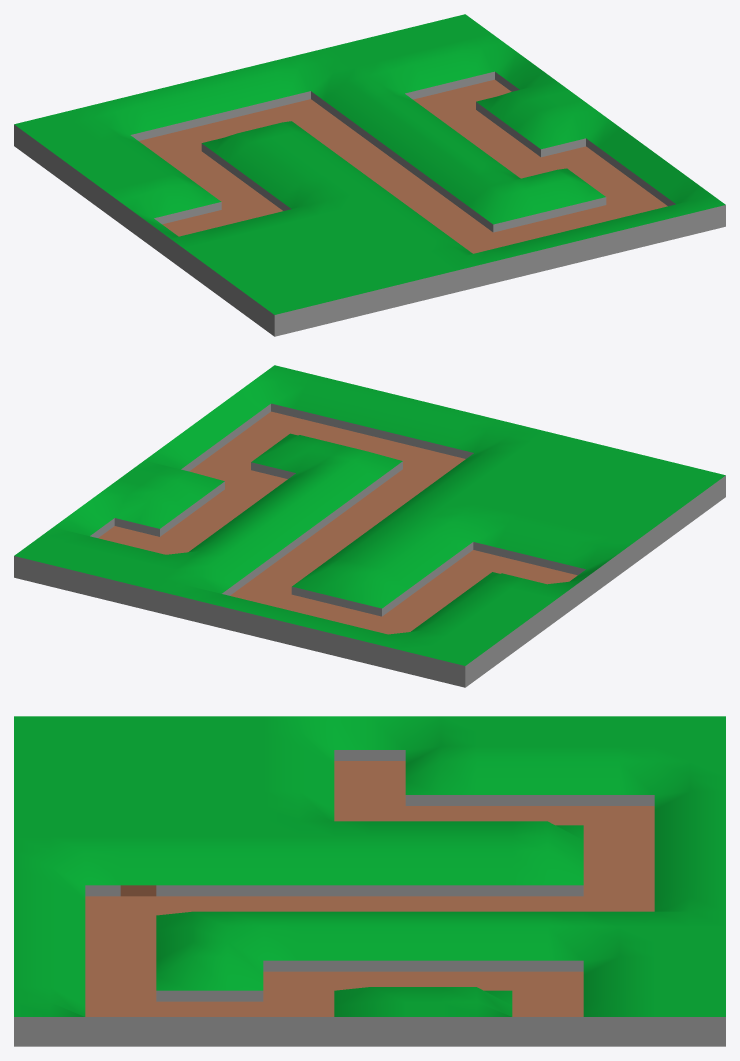
Rendered from pathground.fbx.
The picture shows the model from 3 angles, top to bottom: view 1: azimuth 30°, elevation 25°; view 2: azimuth 150°, elevation 25°; view 3: azimuth 270°, elevation 25°; orthographic projection. The views are drawn at different scales.
Visible parts, largest first — view 1: pPlane1; view 2: pPlane1; view 3: pPlane1.
Part boxes in pixels (left/top/right/bottom): pPlane1: left=14, top=14, right=725, bottom=336; pPlane1: left=14, top=365, right=725, bottom=687; pPlane1: left=14, top=716, right=725, bottom=1046.
Size of the model in its own units: 9.99 by 0.4602 by 9.99.
